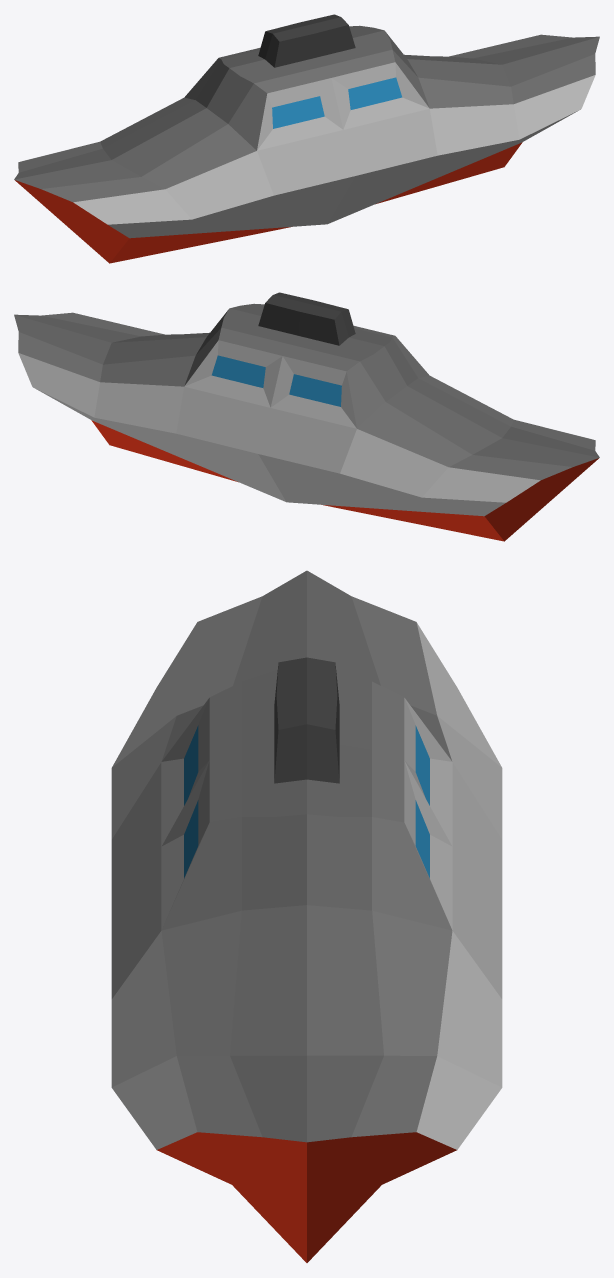
The model's file is Frigate.glb.
3 renders of one model, top to bottom at view 1: azimuth 30°, elevation 25°; view 2: azimuth 150°, elevation 25°; view 3: azimuth 270°, elevation 25°, orthographic. The views are drawn at different scales.
Visible parts, largest first — view 1: Cube; view 2: Cube; view 3: Cube.
Boxes of the visible parts, x1,y1,x2,y2 form: Cube: [14, 14, 599, 263]; Cube: [14, 292, 599, 541]; Cube: [111, 570, 502, 1262].
Size of the model in its own units: 48 by 15.54 by 13.86.
Materials: 1 (1 with a texture image).
